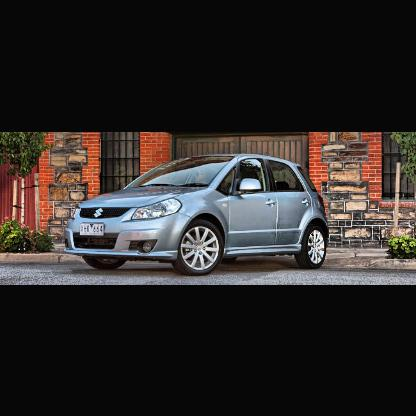Suzuki SX4 Hatchback 2012: (63, 153, 332, 278)
